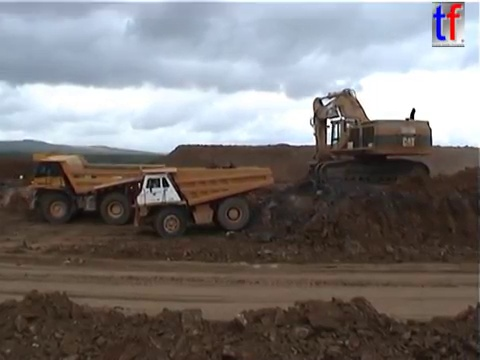excavator: (305, 86, 434, 192)
truck: (17, 150, 168, 226), (130, 164, 275, 239)
